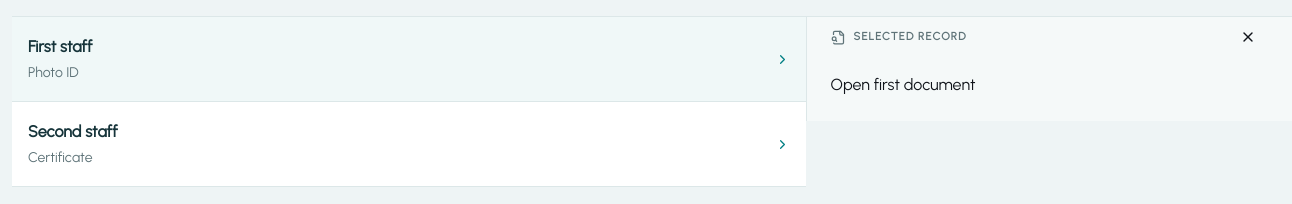
Scenario: Compliance review workspace › shows the selected record actions and updates selection accessibly
Click the button with aria-label "Review Second staff": [73, 132] box left=12, top=102, right=806, bottom=187
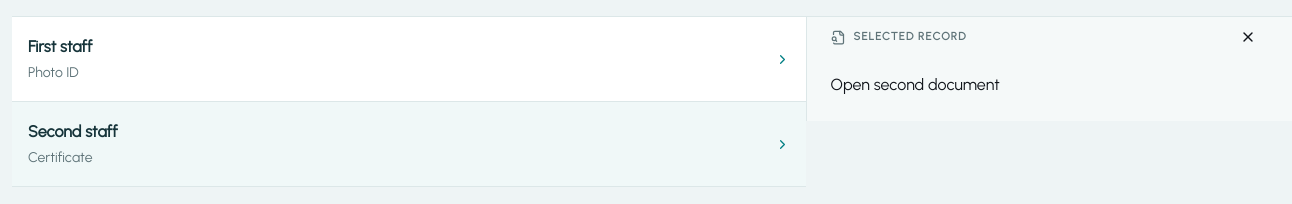
Now the link "Open first document" is gone
